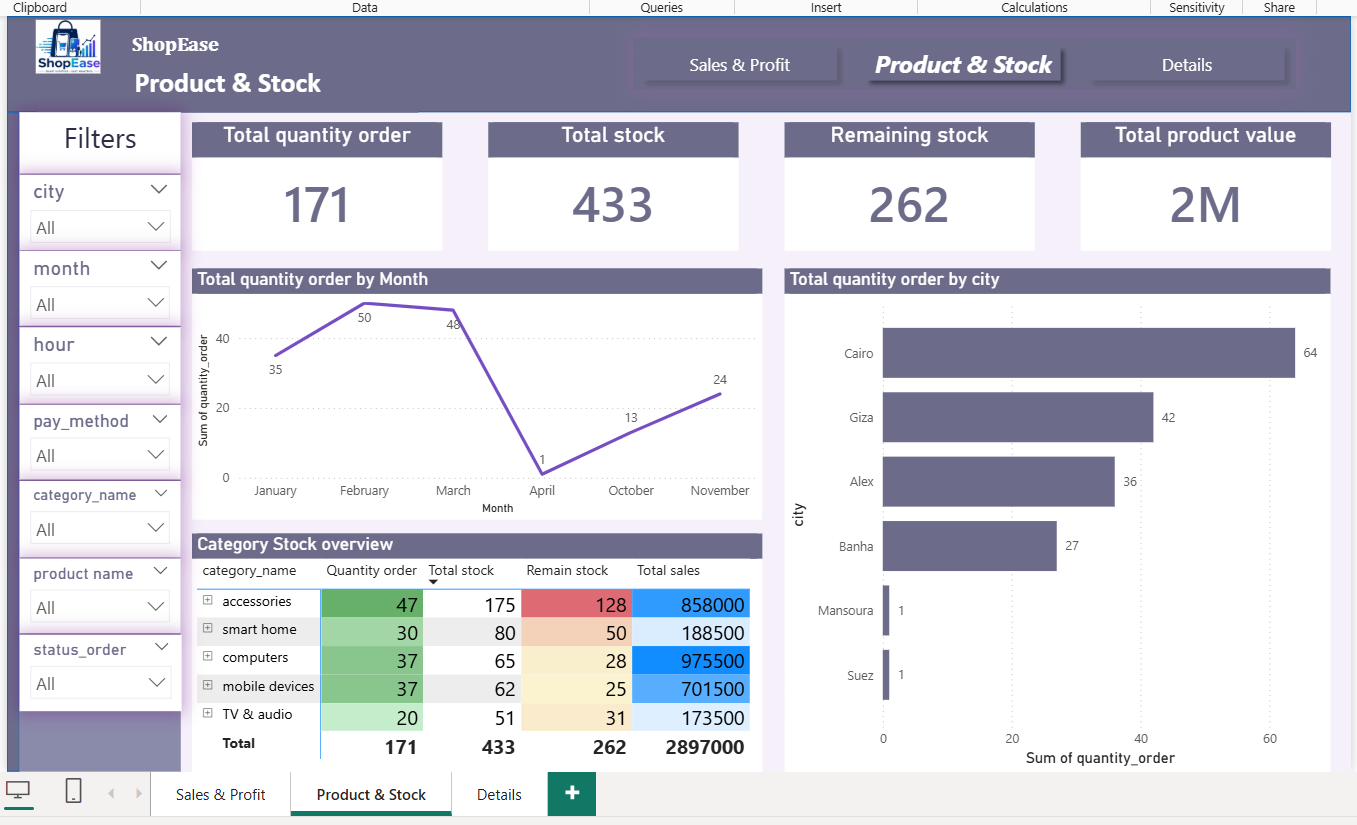

The page's visual inventory and layout, read from the dashboard file:
{"tool":"powerbi","page":{"name":"Product & Stock","canvas":[1280,720],"ordinal":1},"visuals":[{"type":"shape","box":[0,0,1280.3,91.6],"z":0},{"type":"shape","box":[0,91.6,12.1,628],"z":1000},{"type":"shape","box":[12.1,91.6,153.6,628],"z":2000},{"type":"textbox","box":[28.6,41.7,363.1,50],"z":3000},{"type":"textbox","box":[114.3,10.7,192.9,38.1],"z":4000},{"type":"image","box":[27,4,62,51.2],"z":5000},{"type":"cardVisual","title":"Total quantity order","fields":{"Data":["Sum(fact_sales.quantity_order)"]},"box":[176.2,101.2,238.1,122.6],"z":6000},{"type":"cardVisual","title":"Total stock","fields":{"Data":["dim_product.Total stock"]},"box":[458.3,101.2,238.1,122.6],"z":7000},{"type":"cardVisual","title":"Remaining stock ","fields":{"Data":["dim_product.re stock"]},"box":[740.5,101.2,238.1,122.6],"z":8000},{"type":"textbox","box":[11.9,91.7,153.6,58.3],"z":9000},{"type":"cardVisual","title":"Total product value","fields":{"Data":["Sum(dim_product.price)"]},"box":[1022.6,101.2,238.1,122.6],"z":10000},{"type":"lineChart","title":"Total quantity order by Month","fields":{"Category":["dim_date.order_date.Variation.Date Hierarchy.Month","dim_date.order_date.Variation.Date Hierarchy.Day"],"Y":["Sum(fact_sales.quantity_order)"]},"box":[176.2,240.5,542.9,239.3],"z":11000},{"type":"pivotTable","title":"Category Stock overview ","fields":{"Values":["Sum(fact_sales.quantity_order)","dim_product.Total stock","dim_product.re stock","Sum(fact_sales.total_amount)"],"Rows":["dim_product.category_name Hierarchy.category_name","dim_product.category_name Hierarchy.product_name"]},"box":[176.2,492.9,542.9,227.4],"z":12000},{"type":"barChart","title":"Total quantity order  by city","fields":{"Category":["dim_customer.city Hierarchy.city"],"Y":["Sum(fact_sales.quantity_order)"]},"box":[740.5,240.5,520.2,479.8],"z":13000},{"type":"slicer","fields":{"Values":["dim_customer.city"]},"box":[12,151.3,153.7,72],"z":14000},{"type":"slicer","fields":{"Values":["dim_date.month"]},"box":[11.9,223.8,153.6,71.4],"z":15000},{"type":"slicer","fields":{"Values":["dim_date.hour"]},"box":[11.9,296.4,153.6,72.6],"z":16000},{"type":"slicer","fields":{"Values":["dim_payment.pay_method"]},"box":[11.9,370.2,153.6,71.4],"z":17000},{"type":"slicer","fields":{"Values":["dim_product.category_name"]},"box":[11.9,442.9,153.6,72.6],"z":18000},{"type":"slicer","fields":{"Values":["dim_product.product_name"]},"box":[11.9,516.7,153.6,71.4],"z":19000},{"type":"slicer","fields":{"Values":["fact_sales.status_order"]},"box":[11.9,589.3,154.8,72.6],"z":20000},{"type":"pageNavigator","box":[596.4,20.2,631,50],"z":21000}]}

Visuals, with their boxes on the page's 1280x720 design canvas (x1, y1, x2, y2). These are canvas units, not pixel positions in the 1357x825 screenshot, which may show the page scaled, cropped or inside an application window:
shape: detection(0, 0, 1280, 92)
shape: detection(0, 92, 12, 720)
shape: detection(12, 92, 166, 720)
textbox: detection(29, 42, 392, 92)
textbox: detection(114, 11, 307, 49)
image: detection(27, 4, 89, 55)
"Total quantity order" cardVisual: detection(176, 101, 414, 224)
"Total stock" cardVisual: detection(458, 101, 696, 224)
"Remaining stock " cardVisual: detection(740, 101, 979, 224)
textbox: detection(12, 92, 166, 150)
"Total product value" cardVisual: detection(1023, 101, 1261, 224)
"Total quantity order by Month" lineChart: detection(176, 240, 719, 480)
"Category Stock overview " pivotTable: detection(176, 493, 719, 720)
"Total quantity order  by city" barChart: detection(740, 240, 1261, 720)
slicer - dim_customer.city: detection(12, 151, 166, 223)
slicer - dim_date.month: detection(12, 224, 166, 295)
slicer - dim_date.hour: detection(12, 296, 166, 369)
slicer - dim_payment.pay_method: detection(12, 370, 166, 442)
slicer - dim_product.category_name: detection(12, 443, 166, 516)
slicer - dim_product.product_name: detection(12, 517, 166, 588)
slicer - fact_sales.status_order: detection(12, 589, 167, 662)
pageNavigator: detection(596, 20, 1227, 70)
